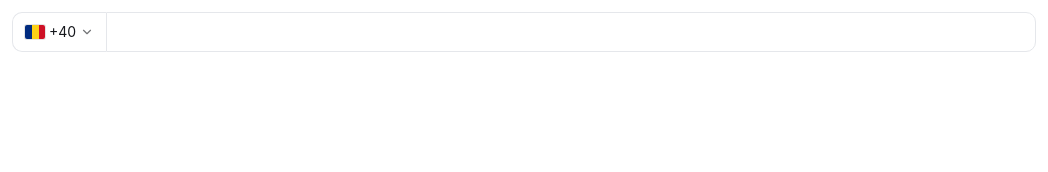
it: PhoneInput › switches country when a dial code is typed
Later steps or results of the test are not shown.
Step 1. Type "+96" into the field named "phone" → (571, 32), box [106, 12, 1036, 52]
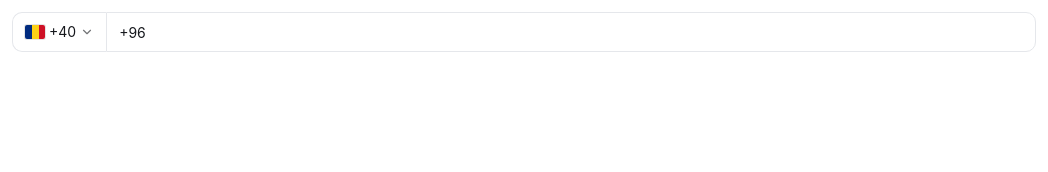
Check: the button reads "+40", box [12, 12, 106, 52]
Step 2. Replace the text in the field named "phone" with "+961" → (571, 32), box [106, 12, 1036, 52]
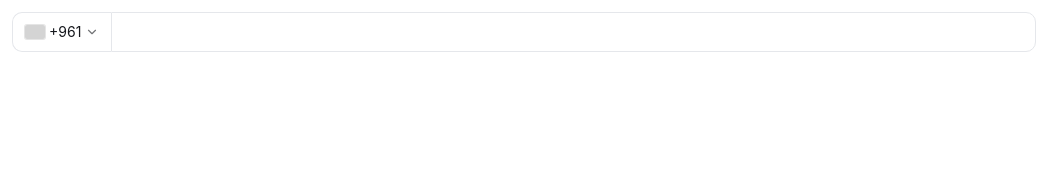
Check: the button reads "+961", box [12, 12, 111, 52]
